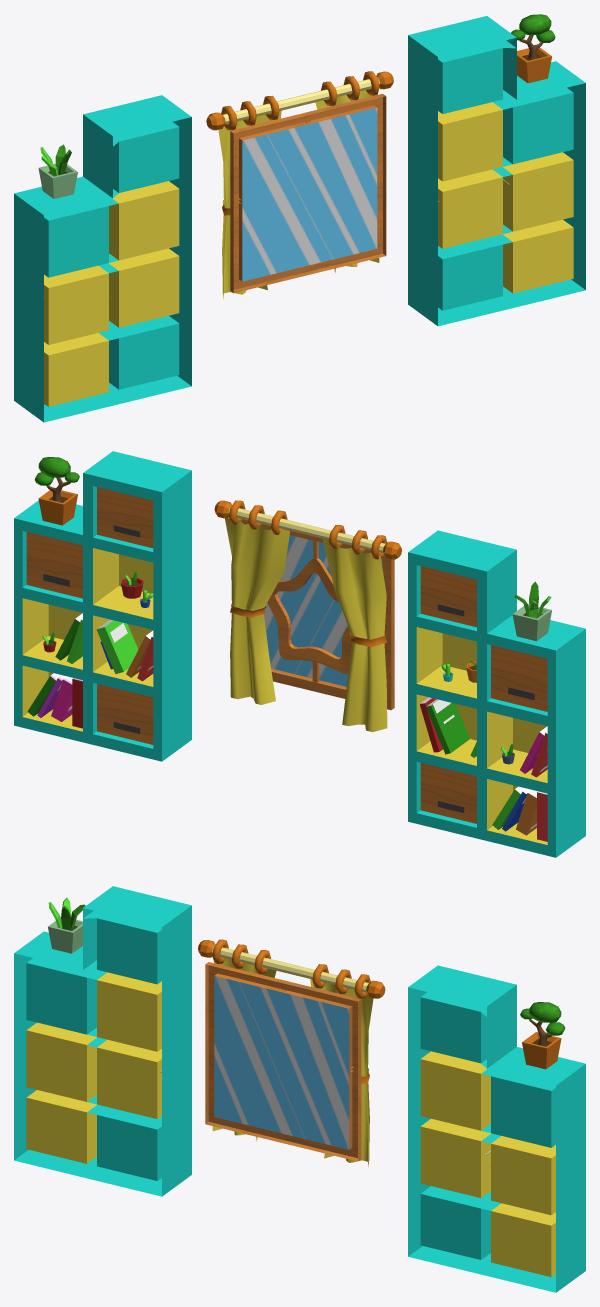
File: Back4.fbx
The picture shows the model from 3 angles, top to bottom: view 1: azimuth 30°, elevation 25°; view 2: azimuth 150°, elevation 25°; view 3: azimuth 330°, elevation 25°; orthographic projection.
Visible parts, largest first — view 1: Back4; view 2: Back4; view 3: Back4.
Part boxes in pixels (x1=…): Back4: x1=14, y1=14, x2=585, y2=422; Back4: x1=14, y1=451, x2=585, y2=857; Back4: x1=14, y1=886, x2=585, y2=1292.
Bounding box in the file's own units: 7129 × 681 × 3386.
